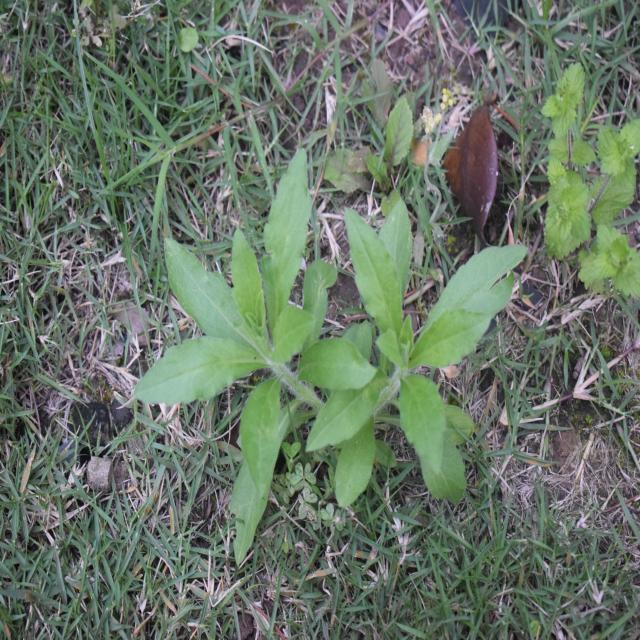horseweed: (142, 164, 357, 540), (352, 213, 528, 505)
